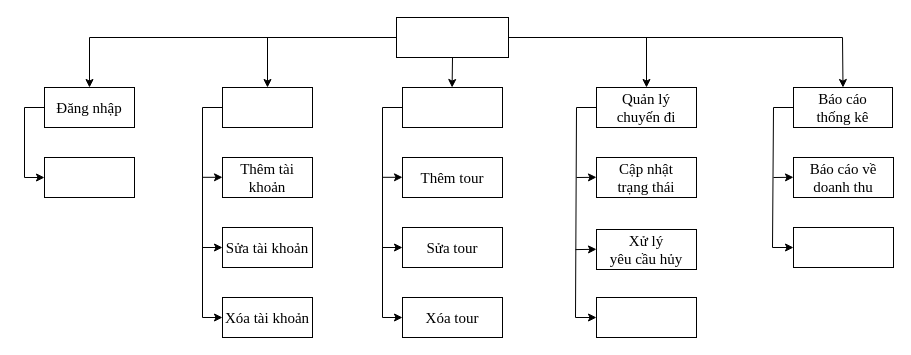
The diagram is 911 pixels wide and 355 high, and some of its shapes have lost their labels. The shapes that lost their labels are listed below. From the top down, each one's centre as x and y in pixels, then its label:
At [452,37]: "Quản trị viên".
At [267,107]: "Quản lý tài khoản".
At [452,107]: "Quản lý tour".
At [89,177]: "Lấy lại mật khẩu".
At [843,247]: "Xuất báo cáo".
At [646,317]: "Xuất hóa đơn".
